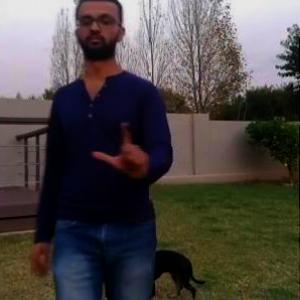land_hand: (91, 120, 155, 176)
